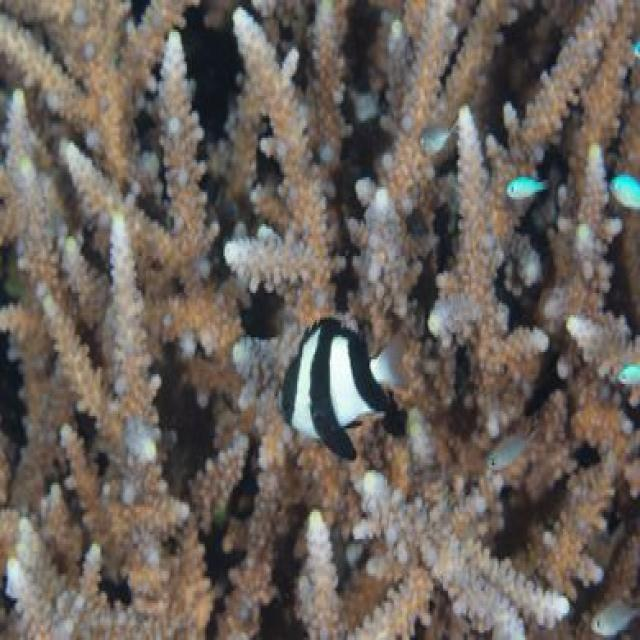Three_striped DasmselFish: (283, 314, 411, 466)
